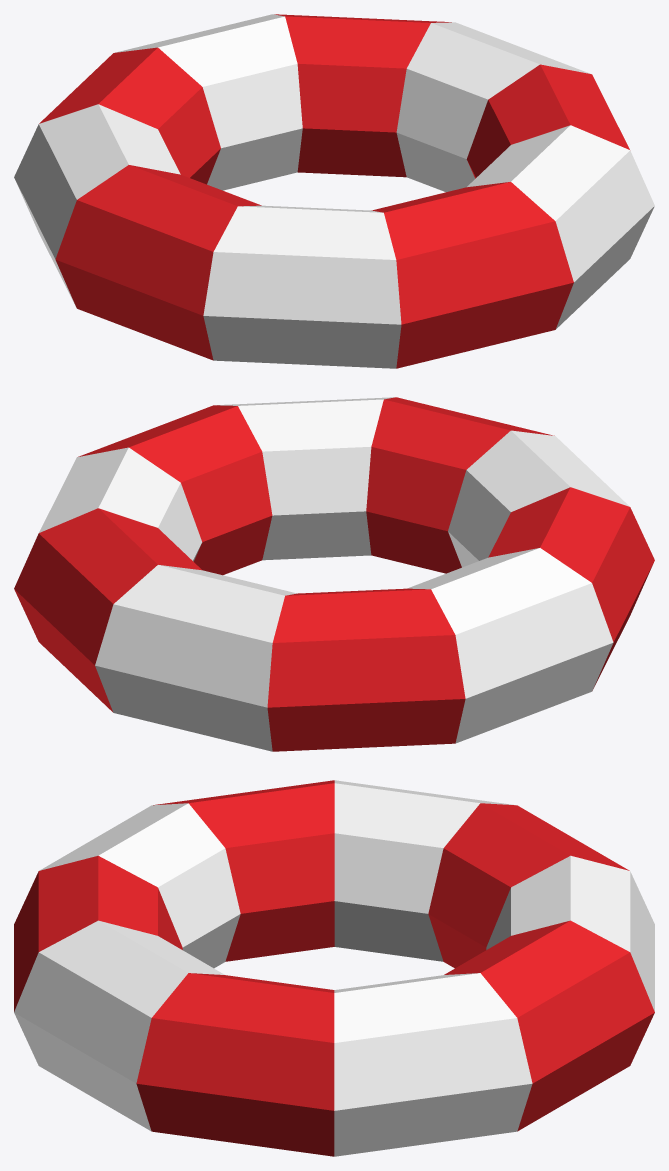
File: Float_tex.fbx
The picture shows the model from 3 angles, top to bottom: view 1: azimuth 30°, elevation 25°; view 2: azimuth 150°, elevation 25°; view 3: azimuth 270°, elevation 25°; orthographic projection. The views are drawn at different scales.
Parts seen in each view (by area): view 1: Float_tex; view 2: Float_tex; view 3: Float_tex.
Part boxes in pixels (left/top/right/bottom): Float_tex: left=14, top=14, right=654, bottom=368; Float_tex: left=14, top=397, right=654, bottom=751; Float_tex: left=14, top=780, right=654, bottom=1156.
Size of the model in its own units: 0.9898 by 0.2605 by 0.9413.
